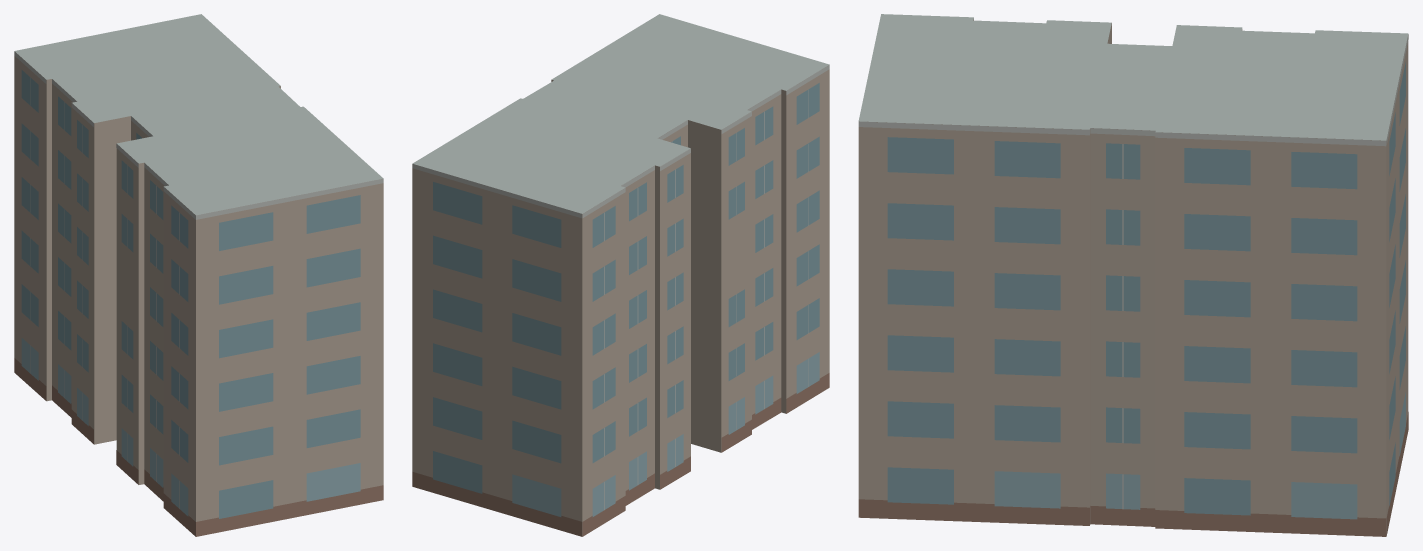
File: survey-upis-32928383.glb
3 renders of one model, left to right at view 1: azimuth 30°, elevation 25°; view 2: azimuth 150°, elevation 25°; view 3: azimuth 270°, elevation 25°, orthographic. The views are drawn at different scales.
Parts seen in each view (by area): view 1: survey-upis-32928383.tmp; view 2: survey-upis-32928383.tmp; view 3: survey-upis-32928383.tmp.
Boxes of the visible parts, box(x1,y1,x2,y2) form: survey-upis-32928383.tmp: box(14, 14, 383, 536); survey-upis-32928383.tmp: box(412, 14, 829, 536); survey-upis-32928383.tmp: box(858, 14, 1408, 536).
Size of the model in its own units: 11.94 by 17.4 by 21.9.
